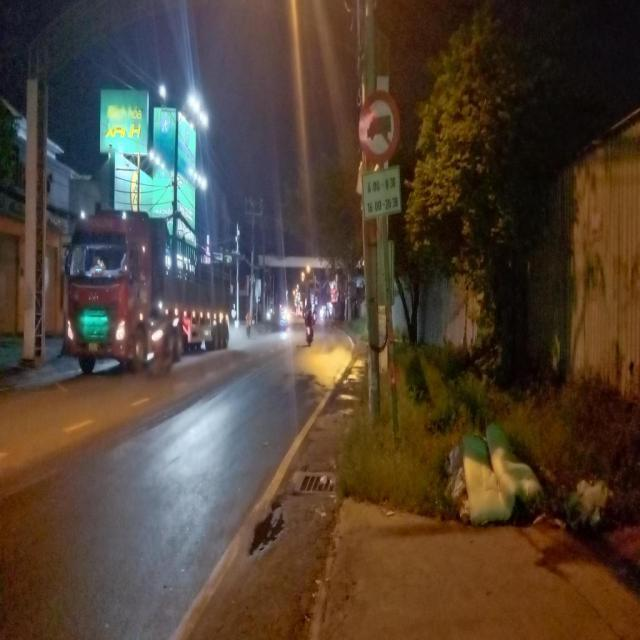106-cam-oto-tai: (360, 90, 400, 163)
